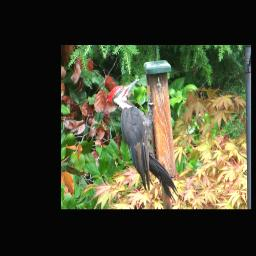Woodpecker: (106, 78, 178, 200)
